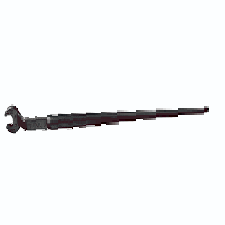Wrench: (3, 91, 221, 133)
